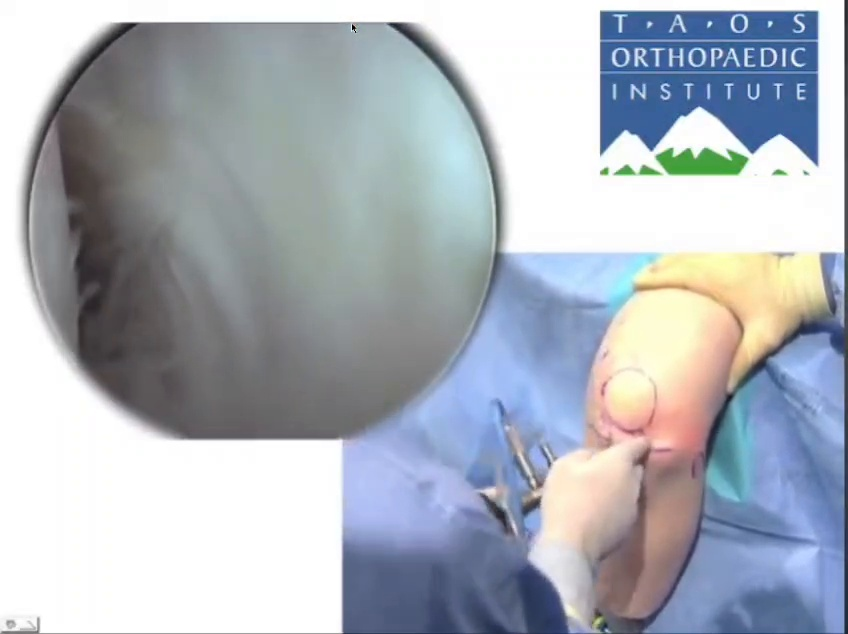arthroscope: (140, 0, 424, 369)
probe: (761, 526, 830, 583), (32, 180, 65, 286)
